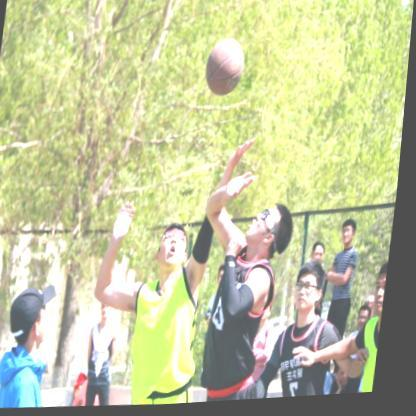basketball: (204, 40, 248, 101)
